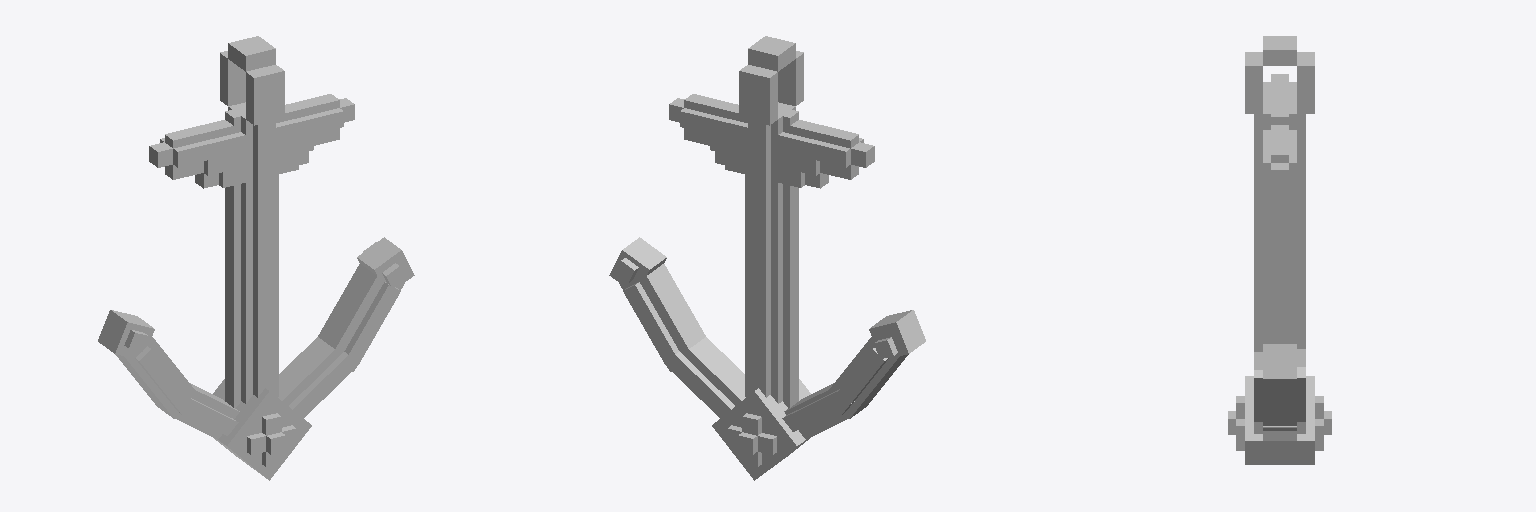
The model's file is 652_smallanchor.obj.
3 views of the same model, side by side, from view 1: azimuth 30°, elevation 25°; view 2: azimuth 150°, elevation 25°; view 3: azimuth 270°, elevation 25° (orthographic).
Parts seen in each view (by area): view 1: Shape22, Shape1, Shape24, Shape2, Shape15, Shape4, Shape3, Shape12, Shape21, Shape6, Shape35, Shape34 (+13 smaller); view 2: Shape25, Shape1, Shape24, Shape2, Shape20, Shape4, Shape3, Shape13, Shape21, Shape40, Shape6, Shape8 (+13 smaller); view 3: Shape1, Shape2, Shape23, Shape22, Shape25, Shape4, Shape7, Shape12, Shape13, Shape21, Shape14, Shape15 (+1 smaller).
Boxes of the visible parts, box(x1,y1,x2,y2) form: Shape22: box(253, 121, 272, 397); Shape1: box(228, 103, 275, 403); Shape24: box(225, 108, 245, 408); Shape2: box(213, 379, 311, 480); Shape15: box(173, 108, 343, 167); Shape4: box(318, 264, 404, 371); Shape3: box(278, 337, 356, 417); Shape12: box(246, 65, 284, 125); Shape21: box(165, 94, 339, 148); Shape6: box(115, 330, 194, 418); Shape35: box(344, 282, 400, 365); Shape34: box(289, 352, 357, 417); Shape25: box(751, 121, 770, 397); Shape1: box(748, 105, 795, 403); Shape24: box(778, 109, 798, 408); Shape2: box(712, 379, 810, 480); Shape20: box(680, 108, 850, 167); Shape4: box(619, 264, 705, 371); Shape3: box(667, 337, 745, 417); Shape13: box(739, 65, 777, 125); Shape21: box(684, 94, 858, 148); Shape40: box(623, 282, 679, 365); Shape6: box(825, 330, 908, 418); Shape8: box(869, 310, 925, 358); Shape1: box(1263, 99, 1296, 343); Shape2: box(1245, 376, 1314, 464); Shape23: box(1271, 110, 1288, 343); Shape22: box(1254, 103, 1270, 351); Shape25: box(1289, 103, 1305, 348); Shape4: box(1263, 379, 1296, 430); Shape7: box(1263, 344, 1296, 378); Shape12: box(1245, 52, 1262, 113); Shape13: box(1297, 52, 1314, 113); Shape21: box(1271, 74, 1288, 162); Shape14: box(1263, 36, 1296, 65); Shape15: box(1263, 82, 1270, 178).
Size of the model in its own units: 1.24 by 1.67 by 0.375.